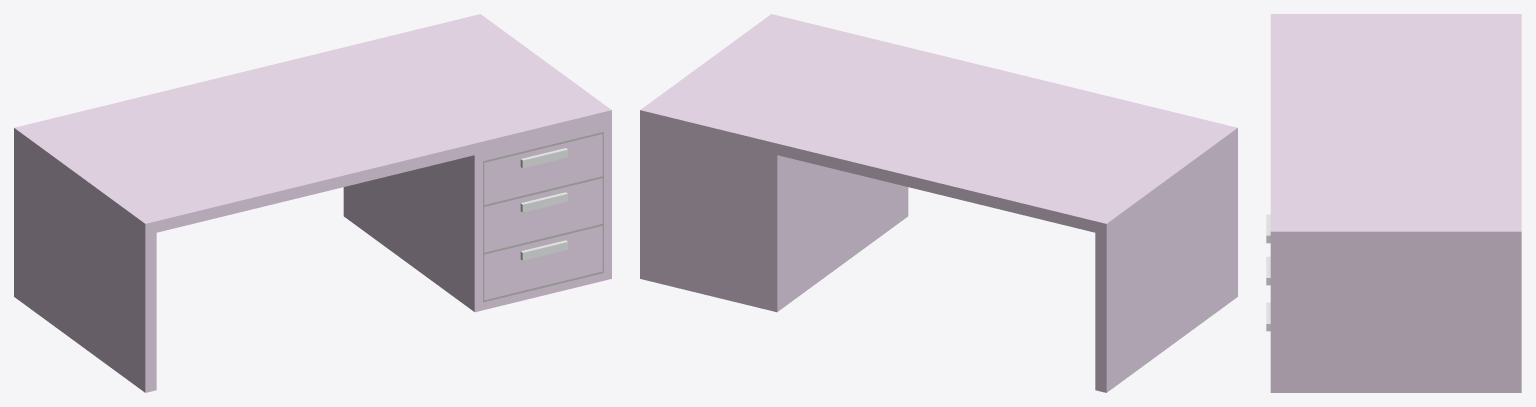
Rendered from Desk.001.fbx.
3 renders of one model, left to right at view 1: azimuth 30°, elevation 25°; view 2: azimuth 150°, elevation 25°; view 3: azimuth 270°, elevation 25°, orthographic. The views are drawn at different scales.
Parts seen in each view (by area): view 1: Desk.001; view 2: Desk.001; view 3: Desk.001.
Boxes of the visible parts, x1,y1,x2,y2 form: Desk.001: (14, 14, 611, 392); Desk.001: (640, 14, 1237, 392); Desk.001: (1266, 14, 1521, 392).
Bounding box in the file's own units: 2.5 × 0.8659 × 1.24.
